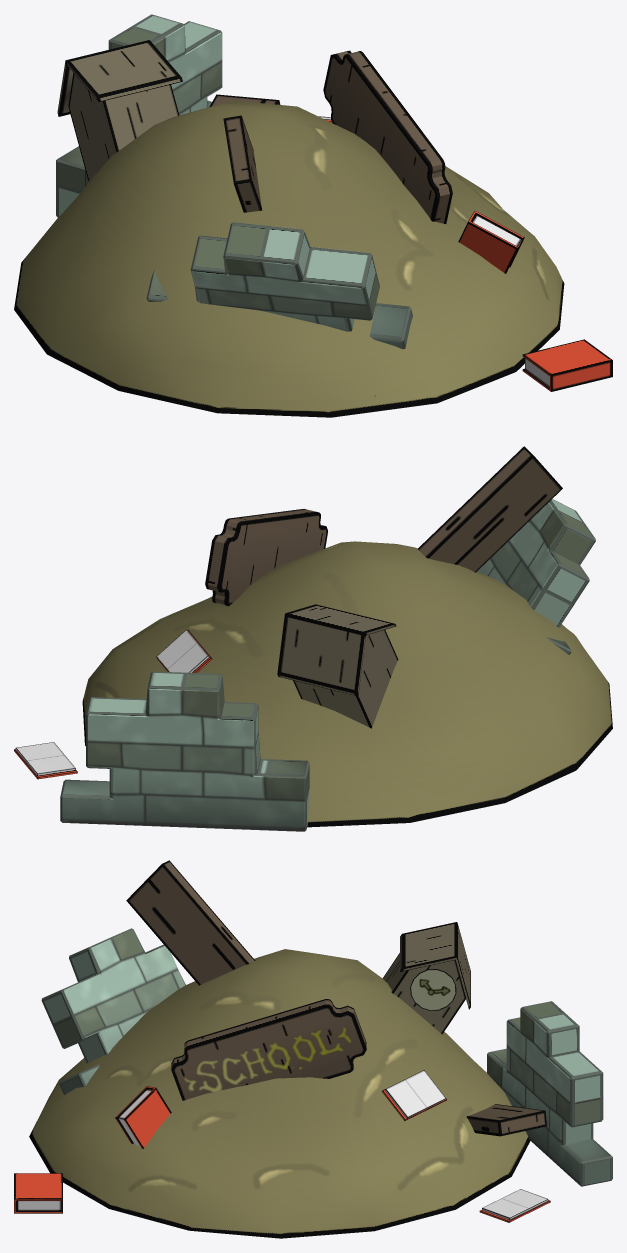
The model's file is WartWood_School.glb.
3 views of the same model, one above another, from view 1: azimuth 30°, elevation 25°; view 2: azimuth 150°, elevation 25°; view 3: azimuth 270°, elevation 25° (orthographic). The views are drawn at different scales.
Parts seen in each view (by area): view 1: School; view 2: School; view 3: School.
Part boxes in pixels (bbox=[...]): School: bbox=[14, 14, 612, 417]; School: bbox=[14, 446, 612, 831]; School: bbox=[14, 860, 612, 1238].
Size of the model in its own units: 2.44 by 1.37 by 3.06.
1 material, 1 textured.
